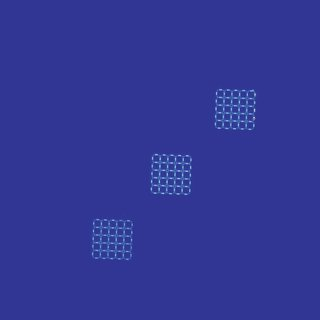overheated: (253, 108, 256, 120), (254, 92, 256, 94)
